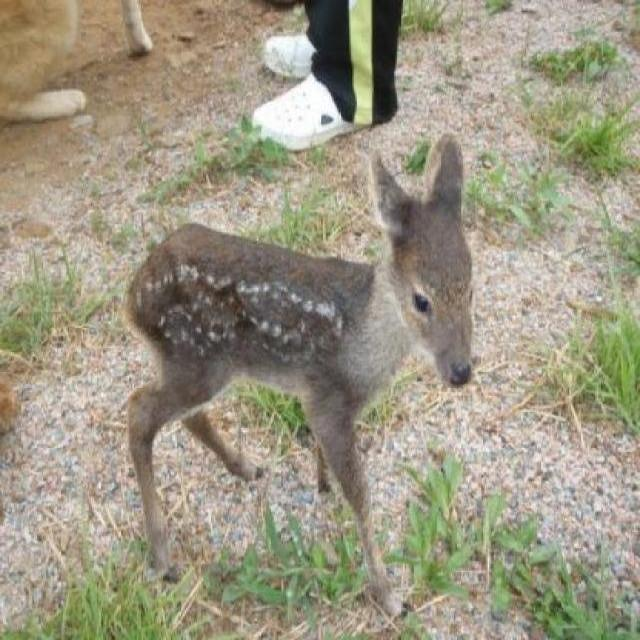deer: (113, 130, 479, 618)
